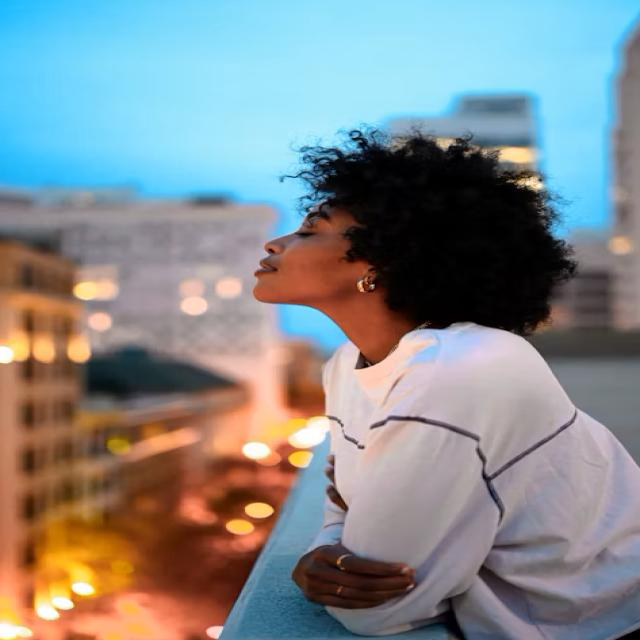Edited images: (180, 110, 638, 640)
